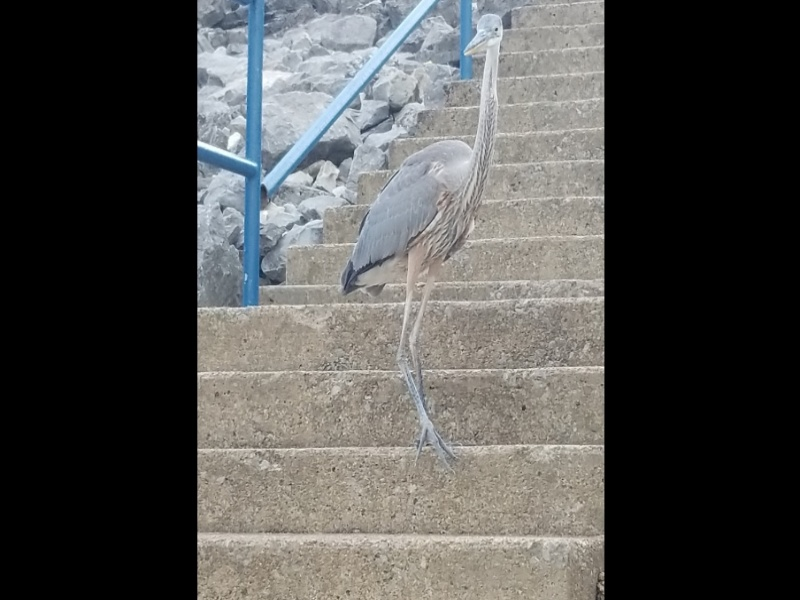heron: (338, 11, 506, 472)
